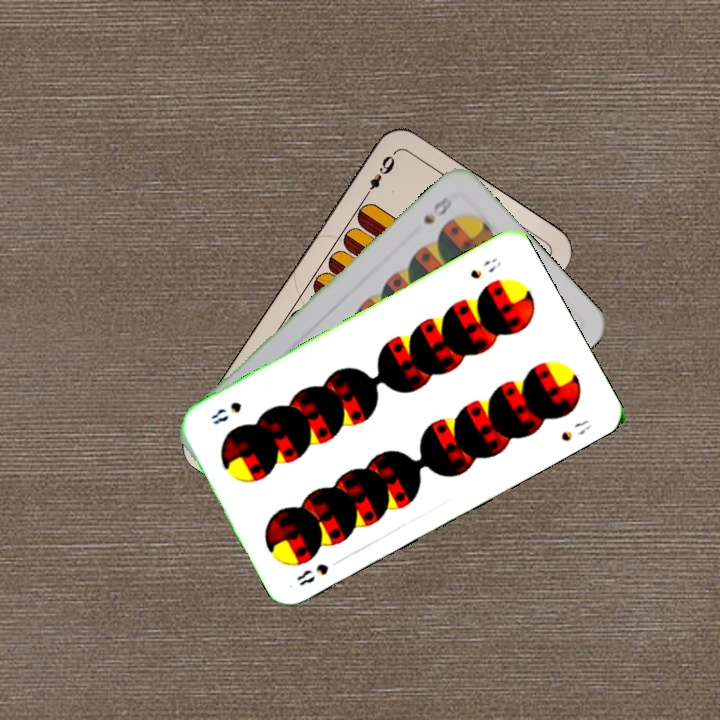E9: (359, 149, 398, 202)
S8: (419, 192, 455, 227), (292, 559, 332, 588), (466, 254, 504, 282)
